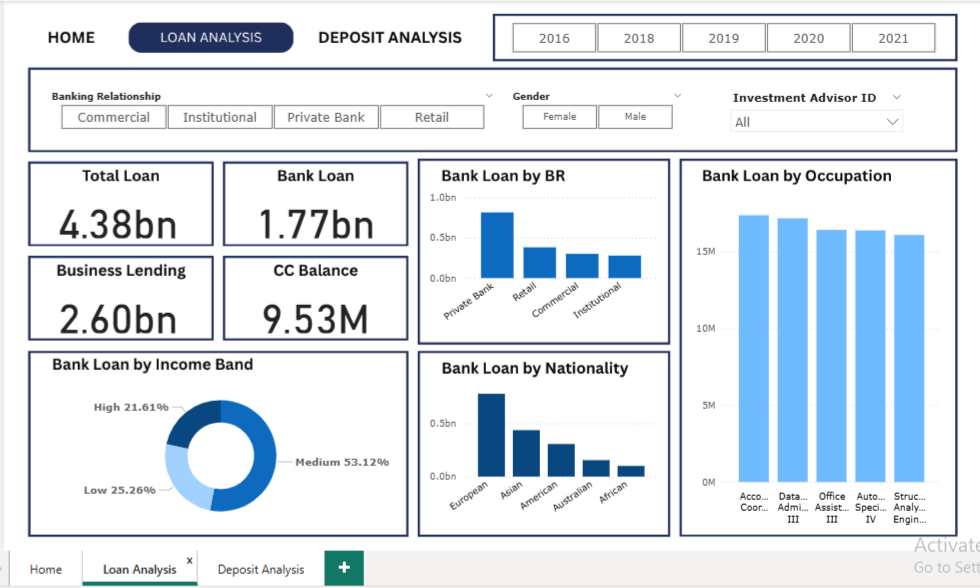

Layout of this report page (visuals, bound fields, positions):
{"tool":"powerbi","page":{"name":"Loan Analysis","canvas":[1280,720],"ordinal":1},"visuals":[{"type":"slicer","fields":{"Values":["banking_clean.Joined_Bank.Variation.Date Hierarchy.Year"]},"box":[640,21.8,603,52.1],"z":0},{"type":"actionButton","box":[35.3,28.6,100.8,40.3],"z":1},{"type":"actionButton","box":[404.8,28.6,203.3,40.3],"z":2},{"type":"card","fields":{"Values":["banking_clean.Total_Loan"]},"box":[50.4,253.6,199.9,62.2],"z":3},{"type":"card","fields":{"Values":["Sum(banking_clean.Bank_Loans)"]},"box":[307.4,253.6,199.9,62.2],"z":4},{"type":"card","fields":{"Values":["Sum(banking_clean.Business_Lending)"]},"box":[50.4,378,199.9,62.2],"z":5},{"type":"card","fields":{"Values":["Sum(banking_clean.Credit_Card_Balance)"]},"box":[307.4,378,199.9,62.2],"z":6},{"type":"donutChart","fields":{"Category":["banking_clean.Income_Band"],"Y":["Sum(banking_clean.Bank_Loans)"]},"box":[50.4,497.2,468.7,196.5],"z":7},{"type":"clusteredColumnChart","fields":{"Y":["Sum(banking_clean.Bank_Loans)"],"Category":["banking_clean.BRId"]},"box":[552.7,243.6,310.8,196.5],"z":8},{"type":"clusteredColumnChart","fields":{"Y":["Sum(banking_clean.Bank_Loans)"],"Category":["banking_clean.Nationality"]},"box":[552.7,497.2,310.8,196.5],"z":9},{"type":"clusteredColumnChart","fields":{"Y":["Sum(banking_clean.Bank_Loans)"],"Category":["banking_clean.Occupation"]},"box":[900.4,253.6,330.9,440.1],"z":10},{"type":"slicer","fields":{"Values":["banking_clean.BRId"]},"box":[50.4,112.3,603.4,61.9],"z":11},{"type":"slicer","fields":{"Values":["banking_clean.GenderId"]},"box":[653.8,112.3,246.2,61.9],"z":12},{"type":"slicer","fields":{"Values":["banking_clean.IAId"]},"box":[941.8,112.3,246.2,61.9],"z":13}]}

Visuals, with their boxes on the page's 1280x720 design canvas (x1, y1, x2, y2). These are canvas units, not pixel positions in the 980x588 screenshot, which may show the page scaled, cropped or inside an application window:
slicer - banking_clean.Joined_Bank.Variation.Date Hierarchy.Year: select_region(640, 22, 1243, 74)
actionButton: select_region(35, 29, 136, 69)
actionButton: select_region(405, 29, 608, 69)
card - banking_clean.Total_Loan: select_region(50, 254, 250, 316)
card - Sum(banking_clean.Bank_Loans): select_region(307, 254, 507, 316)
card - Sum(banking_clean.Business_Lending): select_region(50, 378, 250, 440)
card - Sum(banking_clean.Credit_Card_Balance): select_region(307, 378, 507, 440)
donutChart - banking_clean.Income_Band x Sum(banking_clean.Bank_Loans): select_region(50, 497, 519, 694)
clusteredColumnChart - Sum(banking_clean.Bank_Loans) x banking_clean.BRId: select_region(553, 244, 864, 440)
clusteredColumnChart - Sum(banking_clean.Bank_Loans) x banking_clean.Nationality: select_region(553, 497, 864, 694)
clusteredColumnChart - Sum(banking_clean.Bank_Loans) x banking_clean.Occupation: select_region(900, 254, 1231, 694)
slicer - banking_clean.BRId: select_region(50, 112, 654, 174)
slicer - banking_clean.GenderId: select_region(654, 112, 900, 174)
slicer - banking_clean.IAId: select_region(942, 112, 1188, 174)
